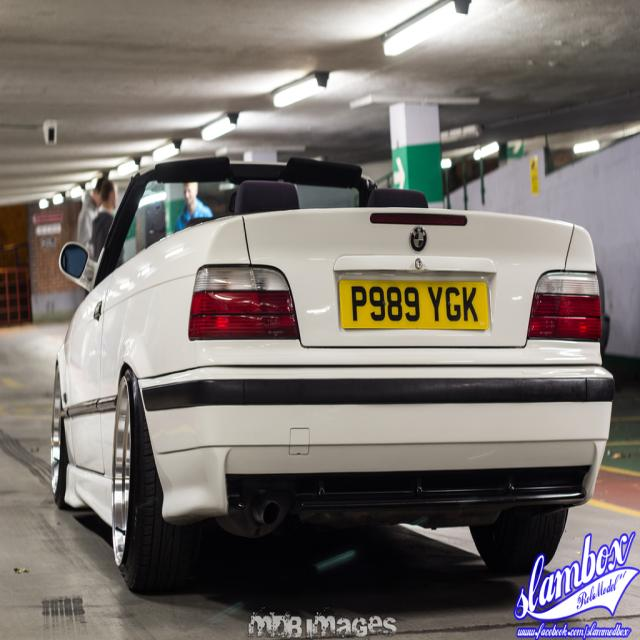car: (48, 121, 634, 596)
